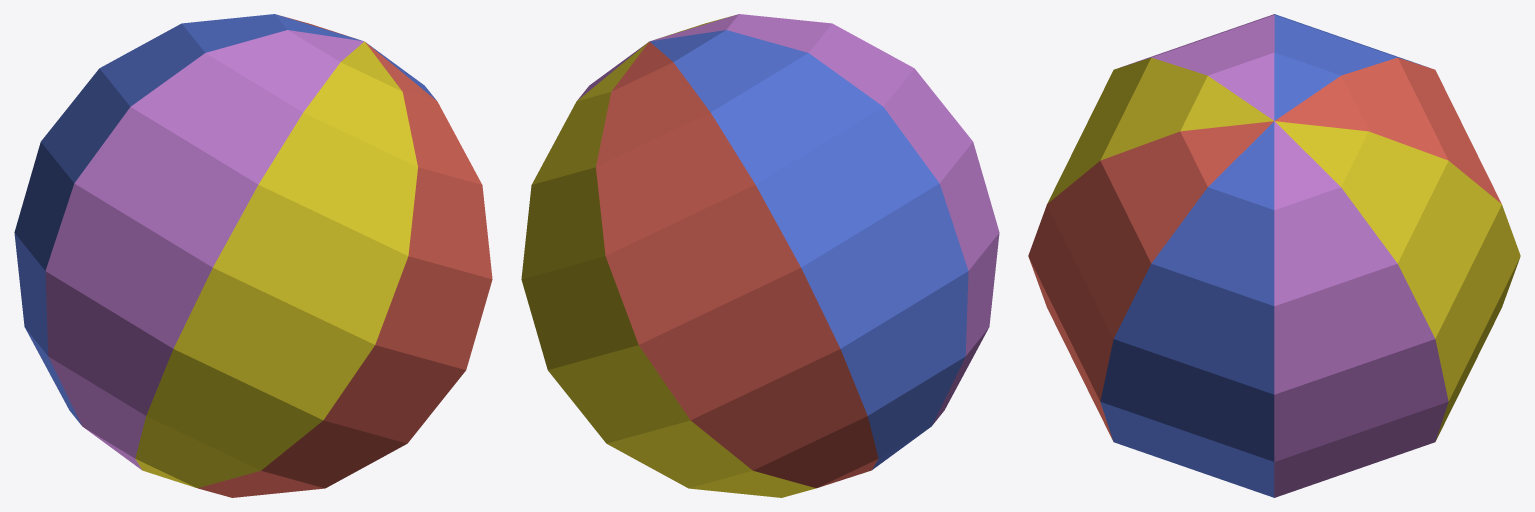
The model's file is PelotaPlaya.fbx.
3 views of the same model, side by side, from view 1: azimuth 30°, elevation 25°; view 2: azimuth 150°, elevation 25°; view 3: azimuth 270°, elevation 25° (orthographic).
Visible parts, largest first — view 1: BALL; view 2: BALL; view 3: BALL.
Part boxes in pixels (x1,y1,x2,y2): BALL: (14, 14, 492, 497); BALL: (521, 14, 999, 497); BALL: (1028, 14, 1520, 497).
Size of the model in its own units: 0.4229 by 0.4229 by 0.4285.
